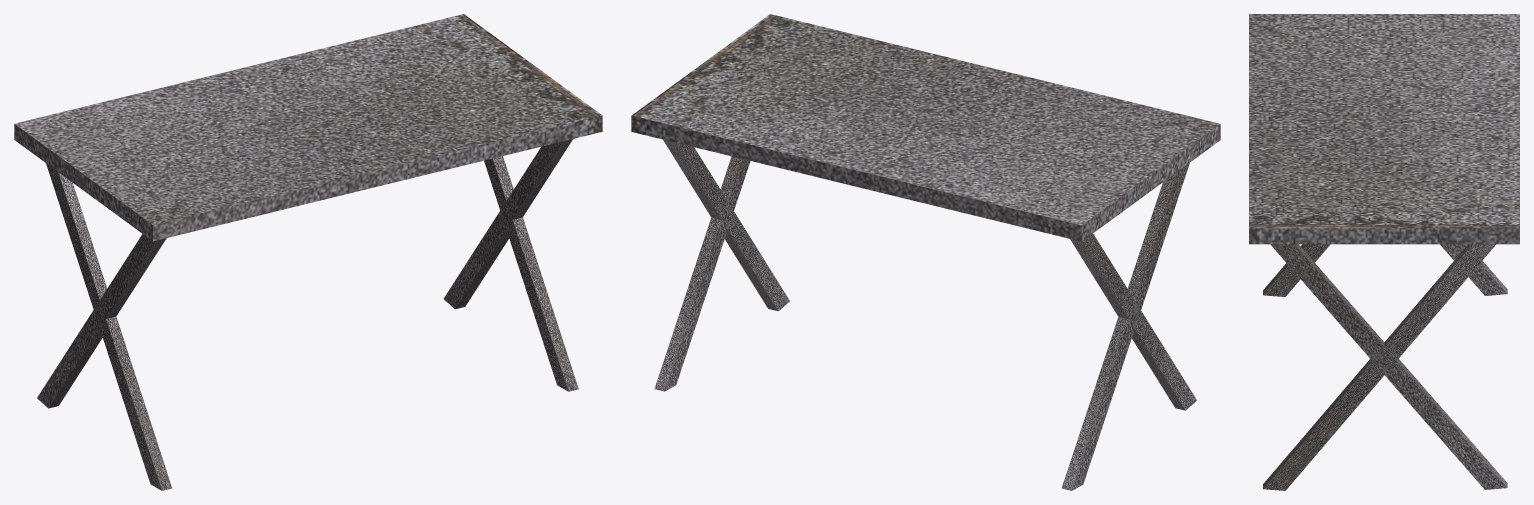
The model's file is TableA.fbx.
The picture shows the model from 3 angles, left to right: view 1: azimuth 30°, elevation 25°; view 2: azimuth 150°, elevation 25°; view 3: azimuth 270°, elevation 25°; orthographic projection. The views are drawn at different scales.
Visible parts, largest first — view 1: Wood, metal.001; view 2: Wood, metal.001; view 3: Wood, metal.001.
Part boxes in pixels (x1,y1,x2,y2): Wood: (14,14,602,241); metal.001: (37,139,578,490); Wood: (631,14,1220,241); metal.001: (654,139,1196,490); Wood: (1249,14,1519,244); metal.001: (1263,244,1507,490).
Bounding box in the file's own units: 2156 × 1268 × 1152.
